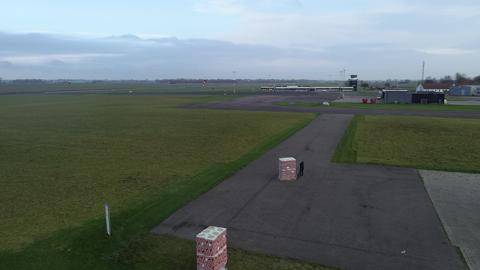RockwoolPallet: (278, 156, 298, 179)
